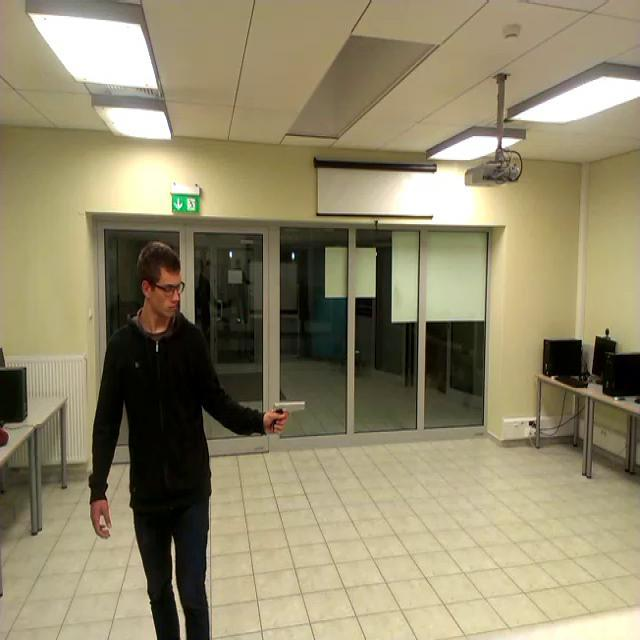Gun: (272, 399, 306, 430)
